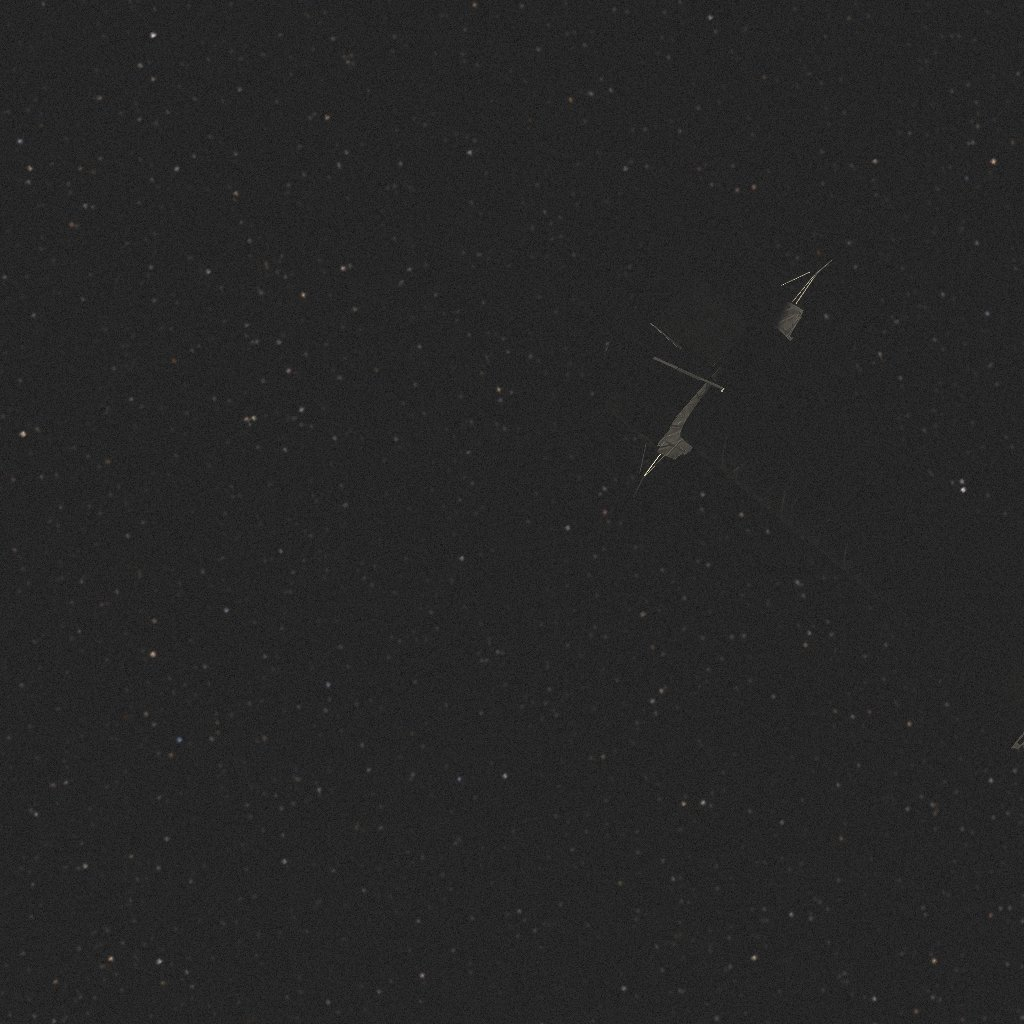xmm_newton: (570, 224, 1006, 680)
